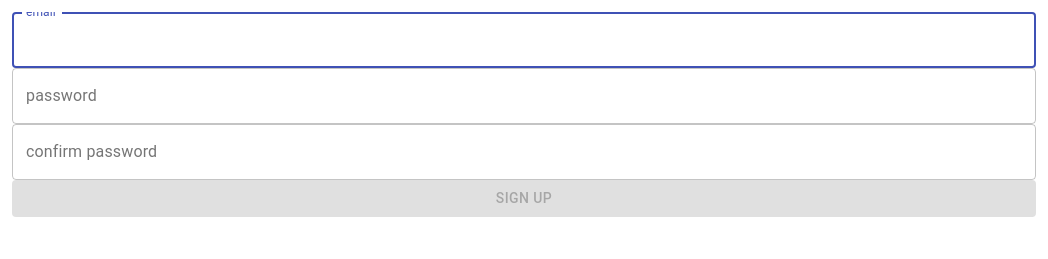
Test case: if passwords do match, form gives user affirmation that passwords are correct.
The image size is (1048, 259).
Type "example@example.com" into the field labelled "email" at (524, 40), box 12,12 -> 1036,68
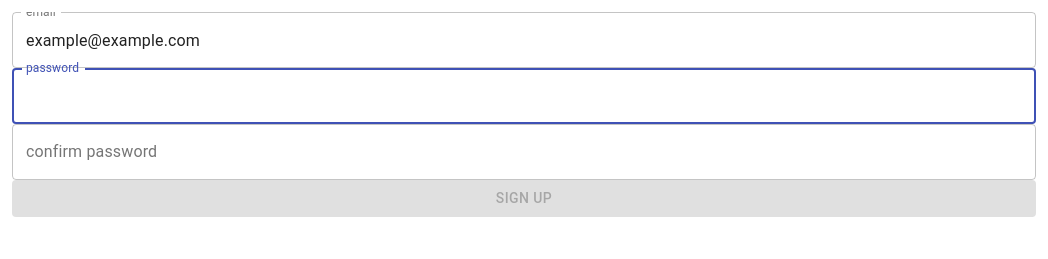
Type "password" into the password field labelled "password" at (524, 96), box 12,68 -> 1036,124
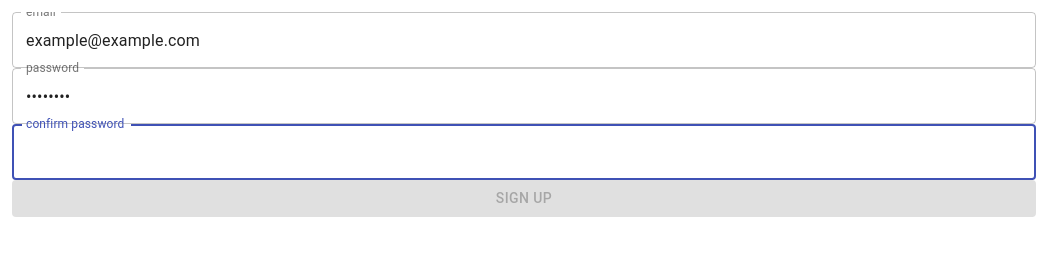
Type "password" into the password field labelled "confirm password" at (524, 152), box 12,124 -> 1036,180
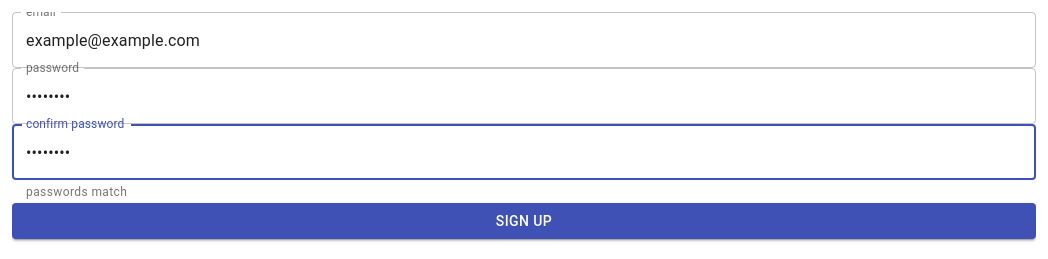
Now the text "passwords match" is shown, box 26,185 -> 127,199
